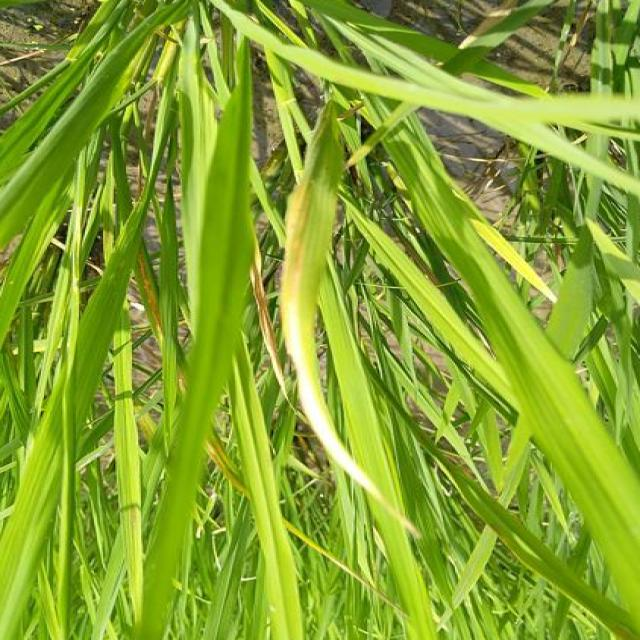Leaf Blight: (279, 101, 420, 538), (282, 516, 399, 608), (205, 432, 250, 499), (138, 241, 161, 344), (177, 369, 190, 394)
